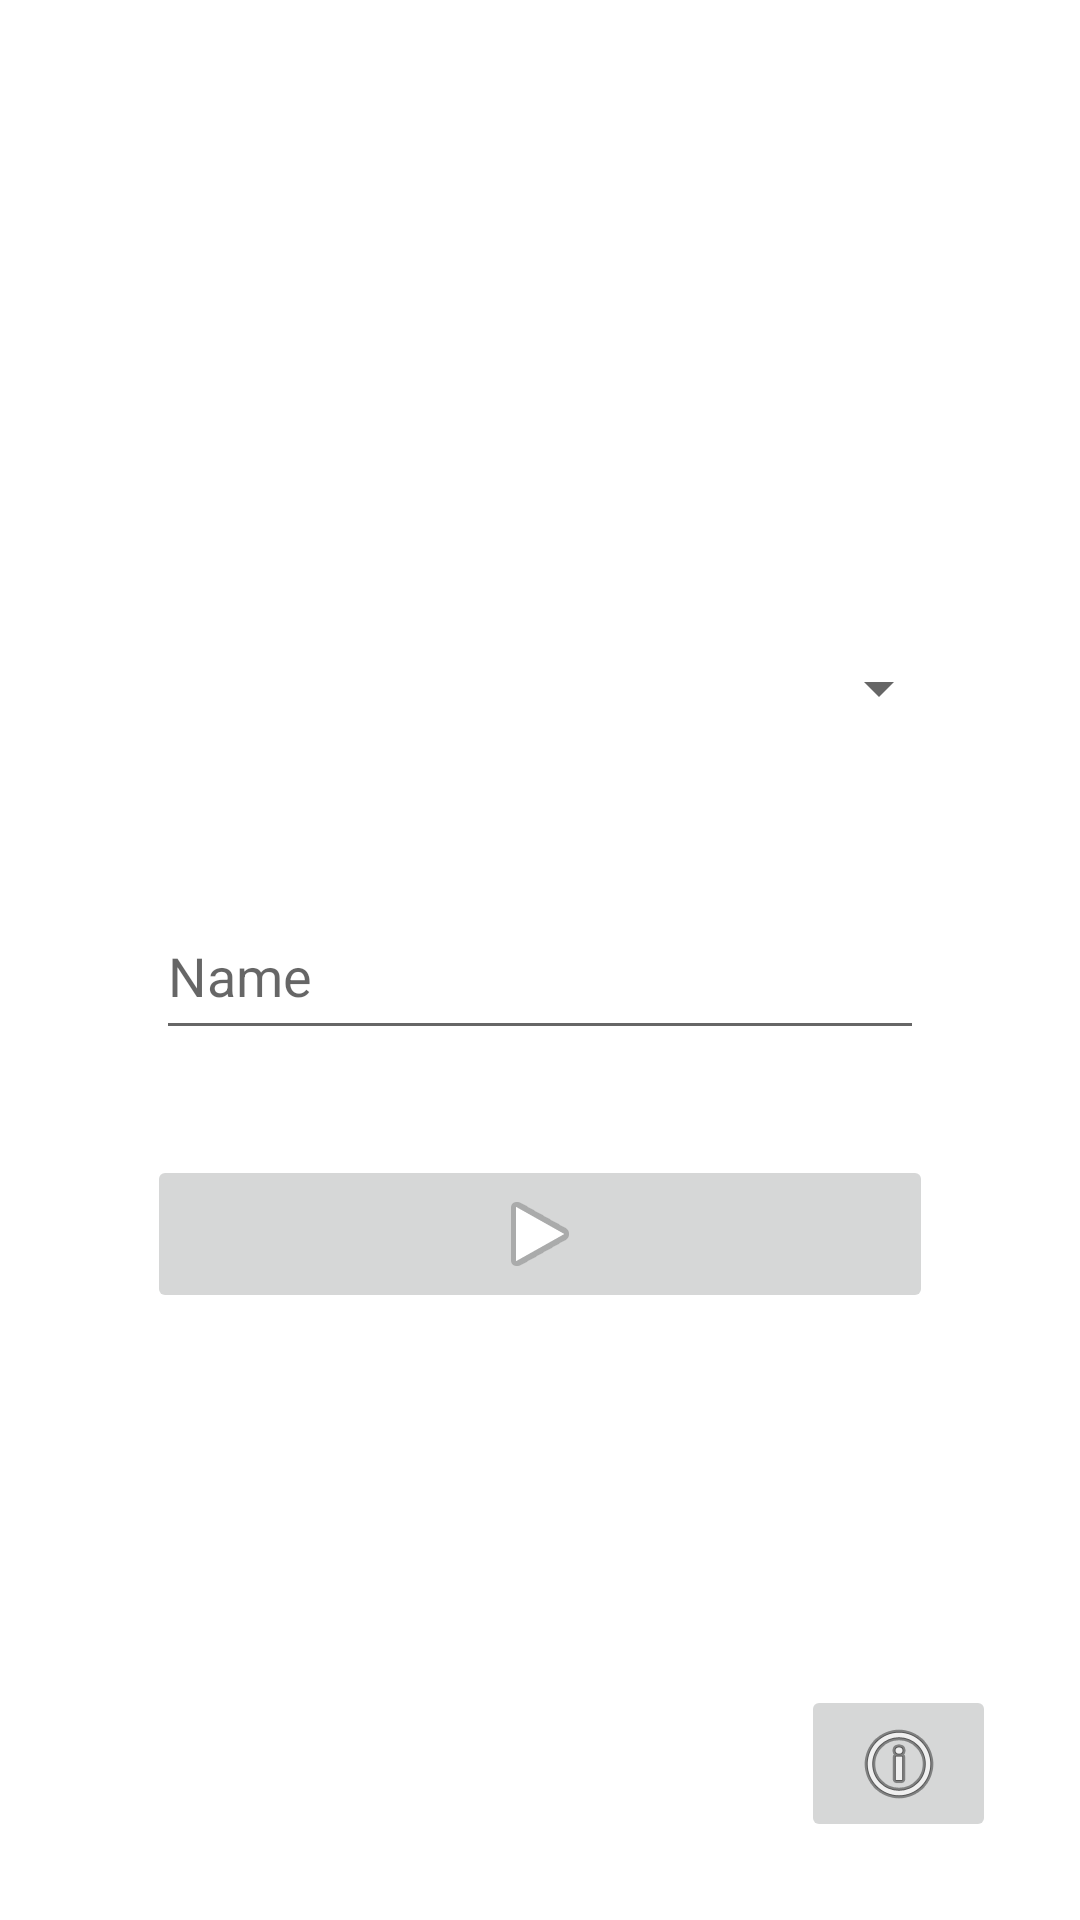

Screen size 1080*1920. Icon name, then its center in pixels as (x=x, y=y):
info details: (x=898, y=1763)
